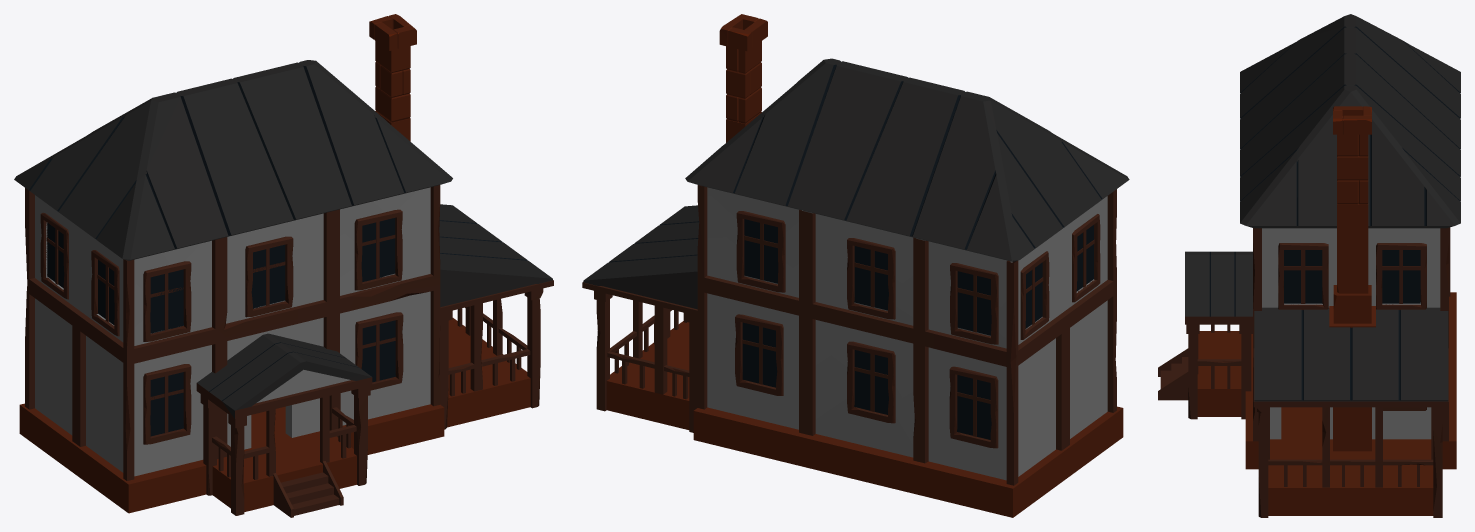
Rendered from House_2 1.fbx.
3 views of the same model, side by side, from view 1: azimuth 30°, elevation 25°; view 2: azimuth 150°, elevation 25°; view 3: azimuth 270°, elevation 25° (orthographic). The views are drawn at different scales.
Visible parts, largest first — view 1: House_2_1; view 2: House_2_1; view 3: House_2_1.
Boxes of the visible parts, box(x1,y1,x2,y2) form: House_2_1: box(14, 14, 553, 517); House_2_1: box(582, 14, 1129, 517); House_2_1: box(1158, 14, 1460, 517).
Size of the model in its own units: 326 by 265 by 203.
